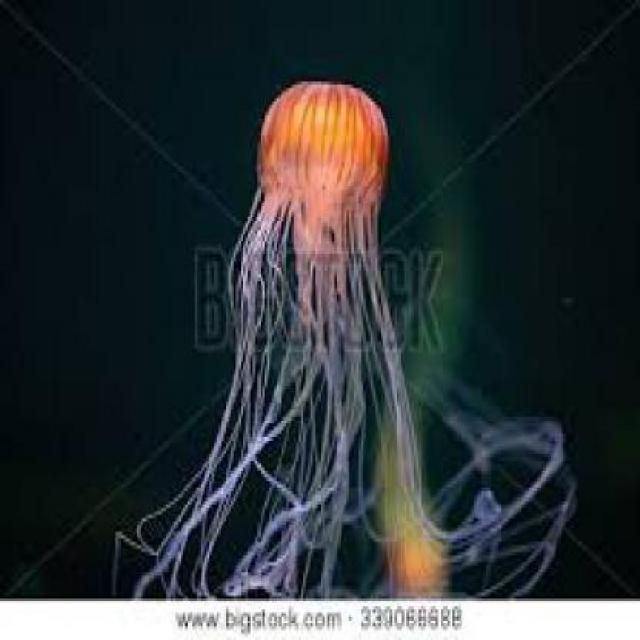Jellyfish: (115, 74, 568, 594)
